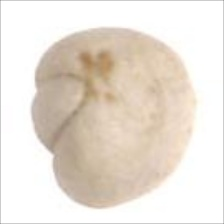L5: (29, 72, 94, 157)
L6: (25, 26, 198, 209)
